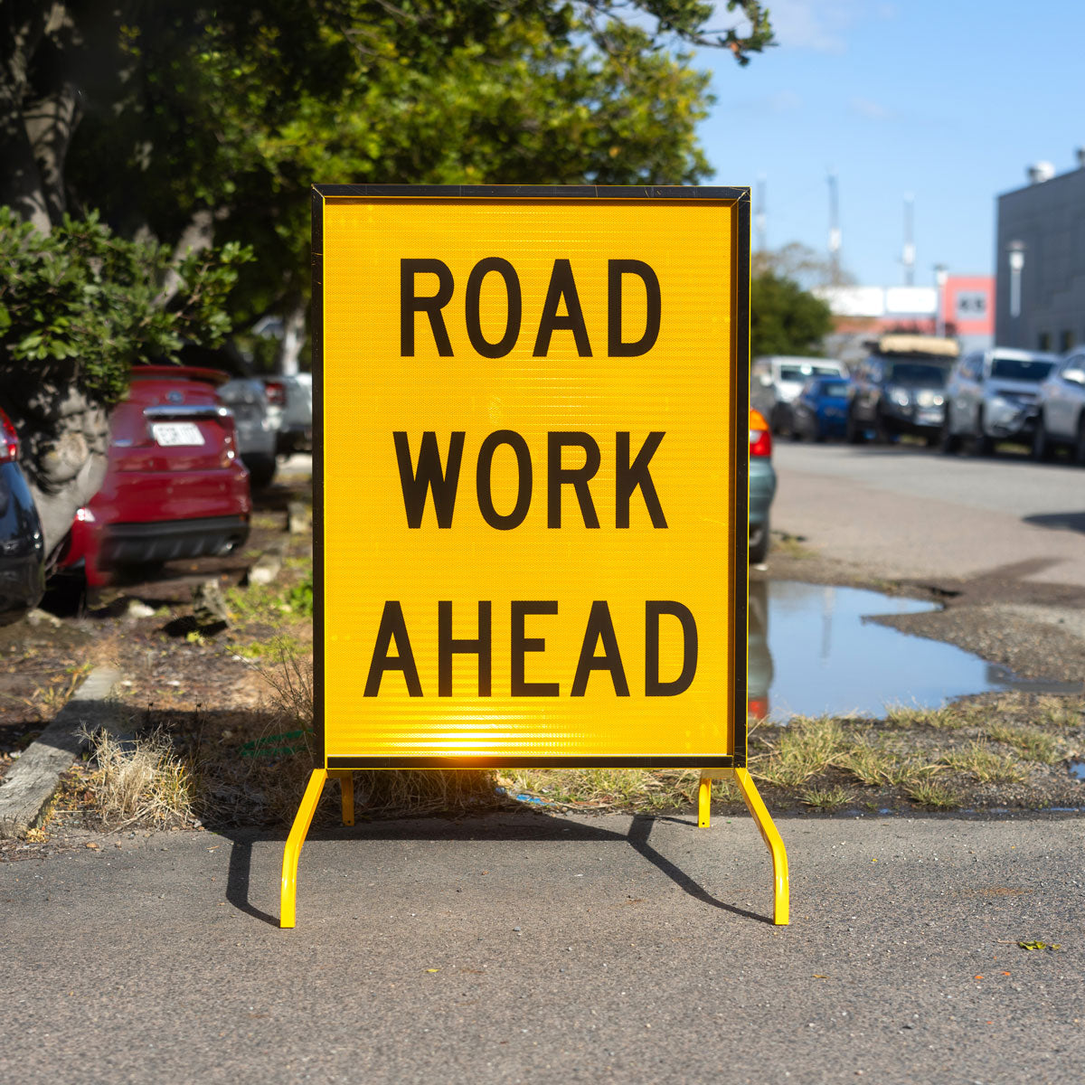Car: (8, 344, 269, 582)
Road_workahead: (305, 179, 777, 793)
Tree: (1, 1, 290, 365)
